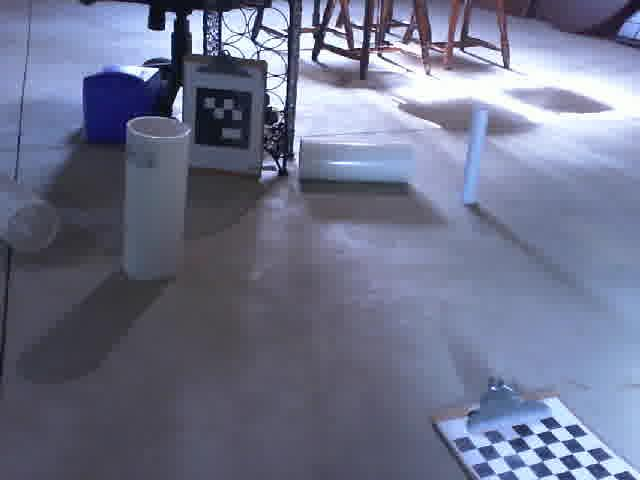coral: (122, 112, 193, 282), (294, 135, 419, 187), (0, 170, 63, 255)
